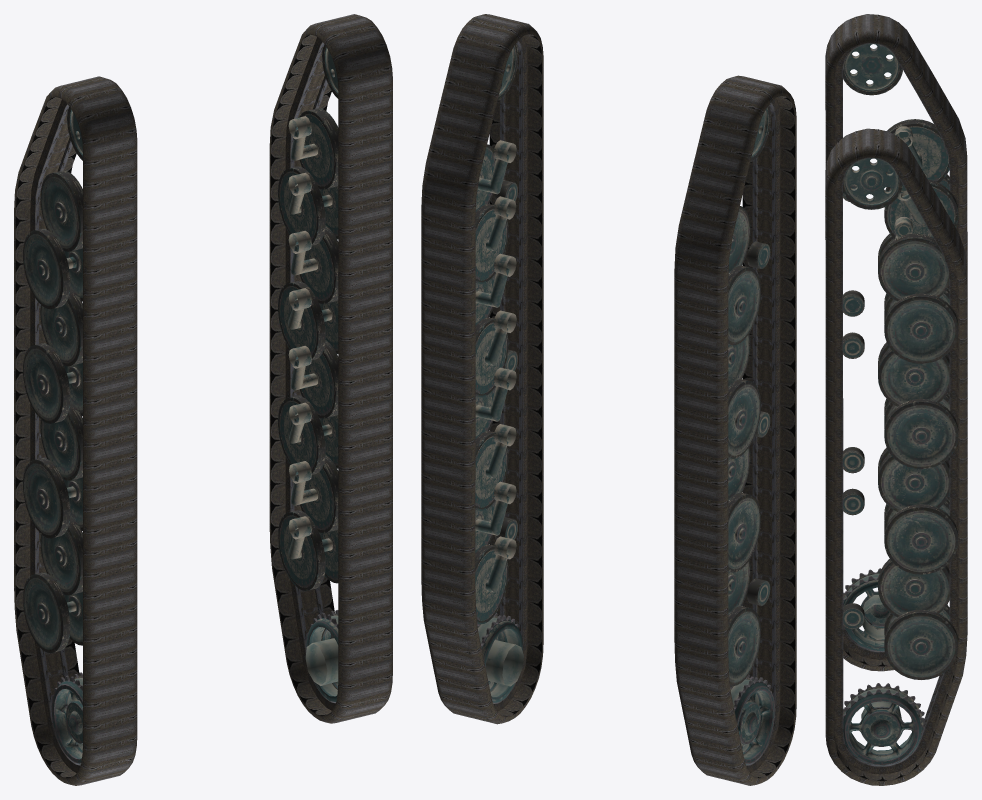
File: Chassis.glb
3 views of the same model, side by side, from view 1: azimuth 30°, elevation 25°; view 2: azimuth 150°, elevation 25°; view 3: azimuth 270°, elevation 25° (orthographic). The views are drawn at different scales.
Parts seen in each view (by area): view 1: set_1_group_0, set_0_group_0, set_3_group_0, set_2_group_0; view 2: set_1_group_0, set_0_group_0, set_3_group_0, set_2_group_0; view 3: set_3_group_0, set_0_group_0, set_2_group_0, set_1_group_0.
Boxes of the visible parts, <box> form: set_1_group_0: <box>14,76,137,785</box>; set_0_group_0: <box>269,14,392,723</box>; set_3_group_0: <box>278,44,338,702</box>; set_2_group_0: <box>23,107,82,764</box>; set_1_group_0: <box>674,75,796,785</box>; set_0_group_0: <box>421,14,543,724</box>; set_3_group_0: <box>475,43,523,703</box>; set_2_group_0: <box>728,105,775,764</box>; set_3_group_0: <box>843,158,958,765</box>; set_0_group_0: <box>825,128,967,785</box>; set_2_group_0: <box>843,43,958,651</box>; set_1_group_0: <box>825,14,967,671</box>.
Size of the model in its own units: 3.52 by 7.6 by 1.53.
Materials: 4 (4 with a texture image).
